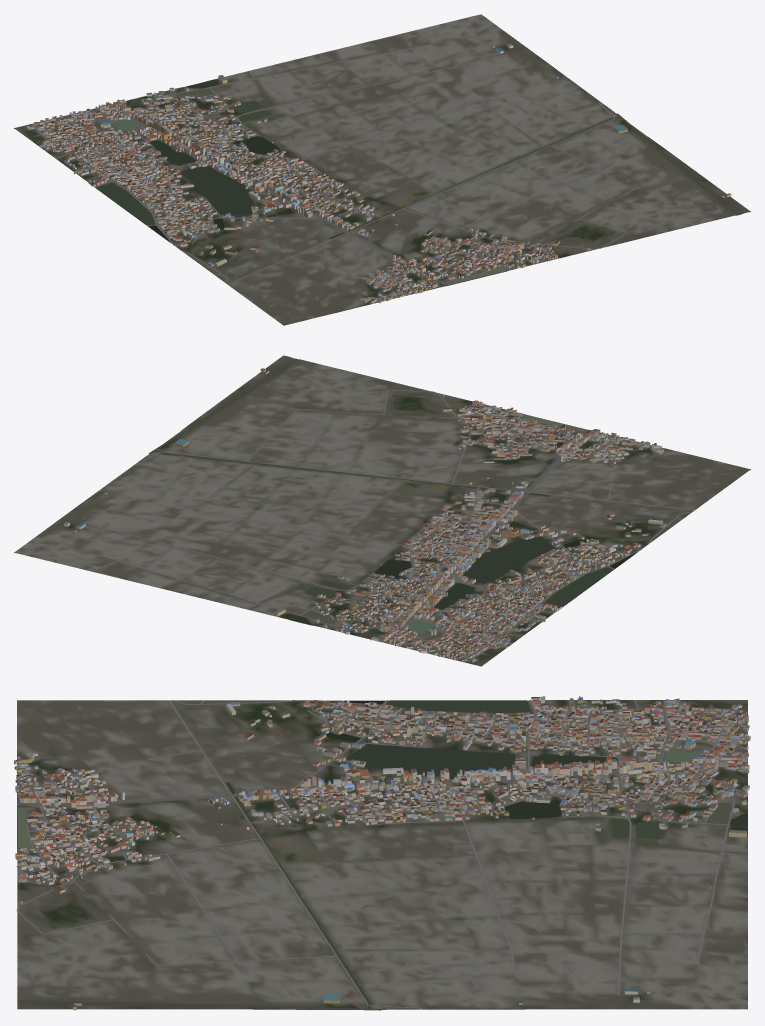
The picture shows the model from 3 angles, top to bottom: view 1: azimuth 30°, elevation 25°; view 2: azimuth 150°, elevation 25°; view 3: azimuth 270°, elevation 25°; orthographic projection. The views are drawn at different scales.
Visible parts, largest first — view 1: ground, buildings, water, roads; view 2: ground, buildings, water, roads; view 3: ground, buildings, water, roads.
Boxes of the visible parts, <box> form: ground: <box>14,14,750,325</box>; buildings: <box>26,44,731,303</box>; water: <box>96,82,738,285</box>; roads: <box>32,44,633,298</box>; ground: <box>14,355,750,666</box>; buildings: <box>64,368,666,662</box>; water: <box>148,358,636,634</box>; roads: <box>83,390,694,662</box>; ground: <box>17,700,747,1009</box>; buildings: <box>14,696,750,1010</box>; water: <box>17,700,747,1010</box>; roads: <box>16,700,748,1009</box>.
Bounding box in the file's own units: 1411 × 25.6 × 1414.
